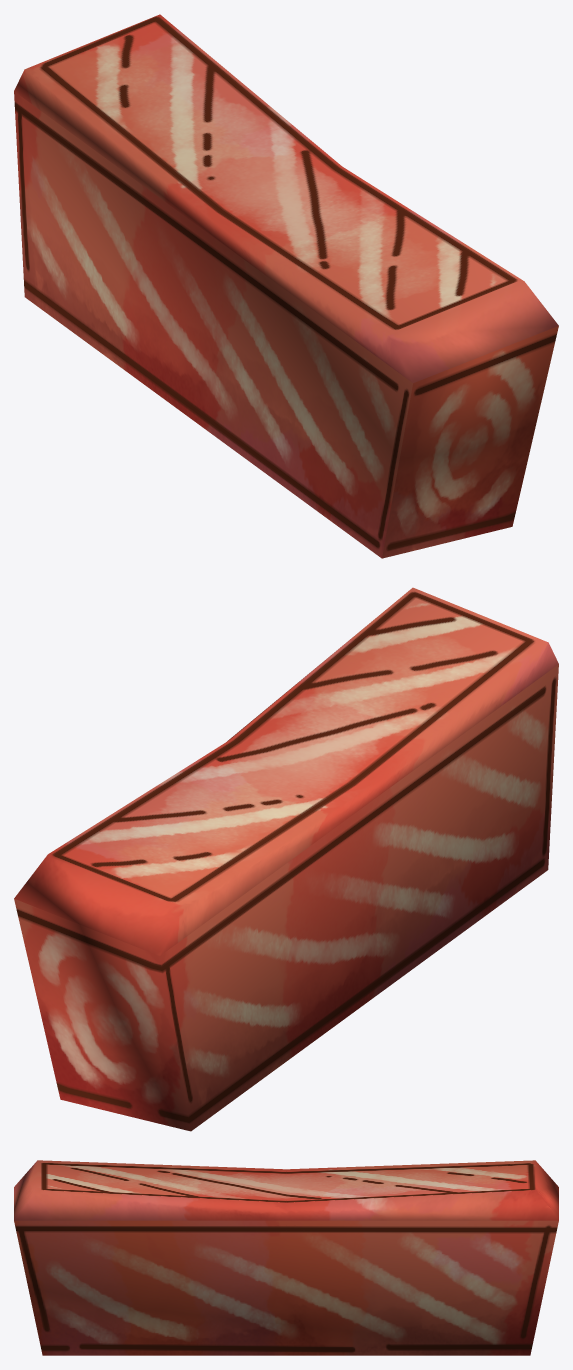
File: top side slab.fbx
3 views of the same model, one above another, from view 1: azimuth 30°, elevation 25°; view 2: azimuth 150°, elevation 25°; view 3: azimuth 270°, elevation 25° (orthographic). The views are drawn at different scales.
Visible parts, largest first — view 1: topside2; view 2: topside2; view 3: topside2.
Boxes of the visible parts, x1=… form: topside2: x1=14, y1=14, x2=558, y2=558; topside2: x1=14, y1=587, x2=558, y2=1131; topside2: x1=14, y1=1160, x2=558, y2=1355.
Bounding box in the file's own units: 9.57 × 14.42 × 42.4.
